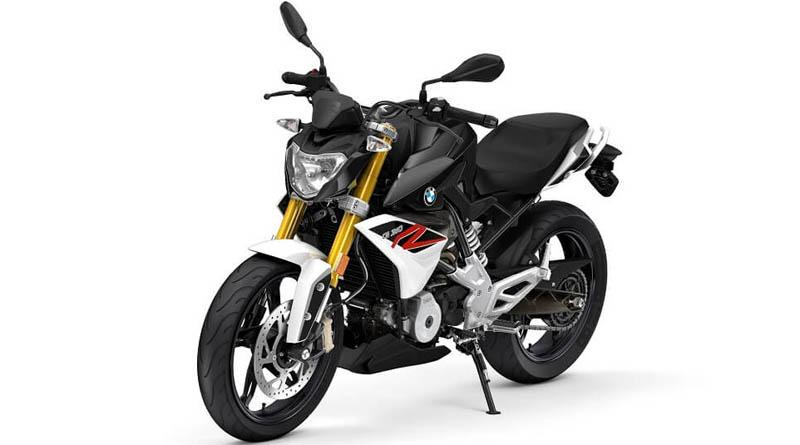motorbike: (196, 2, 622, 445)
